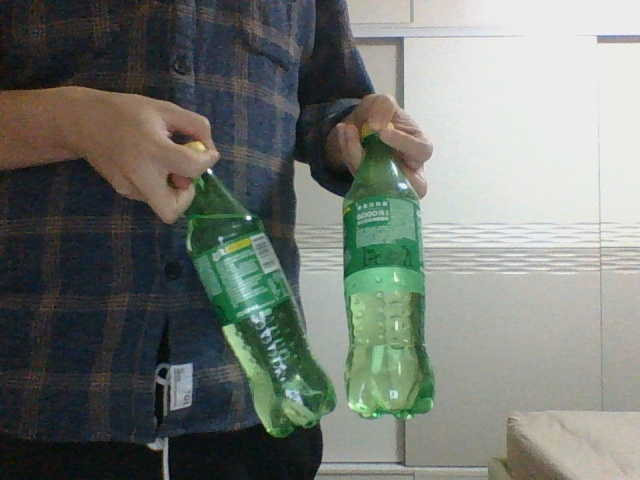Sprite: (174, 143, 337, 436), (343, 121, 434, 419)
